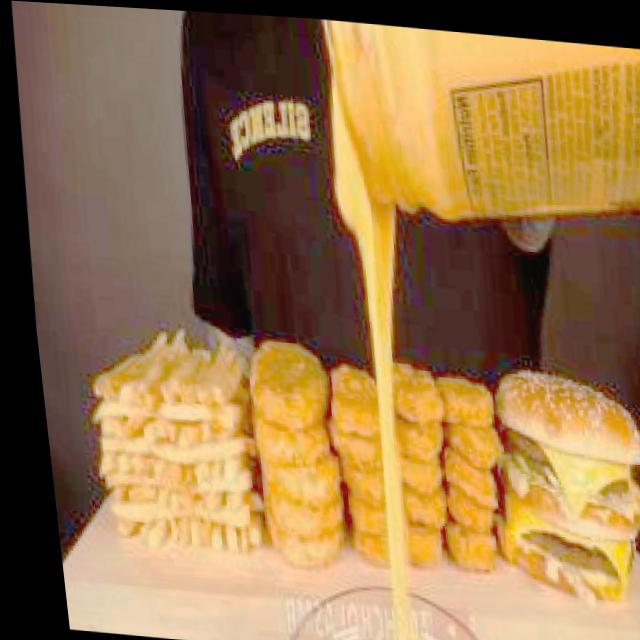burger: (476, 367, 640, 612)
chicken_nuggets: (241, 338, 354, 570), (428, 376, 515, 574), (384, 366, 458, 571), (323, 367, 397, 563), (242, 336, 329, 434), (254, 453, 346, 510), (251, 419, 335, 471), (328, 364, 384, 437), (264, 495, 348, 543), (267, 525, 347, 572), (440, 450, 500, 504), (391, 361, 444, 422), (437, 376, 492, 427), (446, 526, 502, 575), (450, 422, 502, 470), (443, 486, 495, 534), (393, 417, 444, 464), (329, 428, 386, 464), (343, 462, 389, 506), (405, 524, 448, 571), (399, 487, 447, 528), (398, 456, 446, 496), (347, 502, 389, 536), (353, 531, 391, 567)
french fries: (79, 319, 270, 558)
